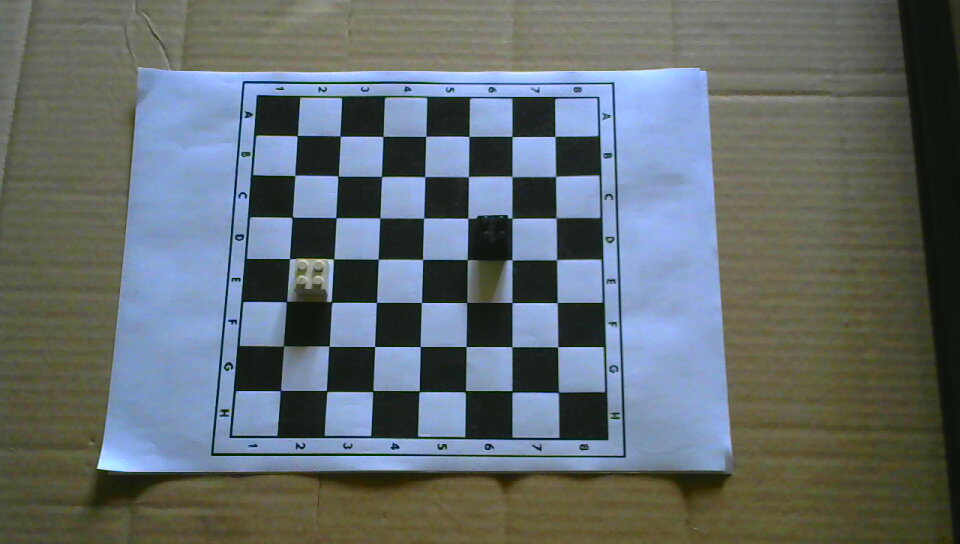bp: (475, 213, 511, 249)
wp: (292, 257, 329, 296)
